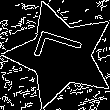L_E: (30, 33, 91, 77)
